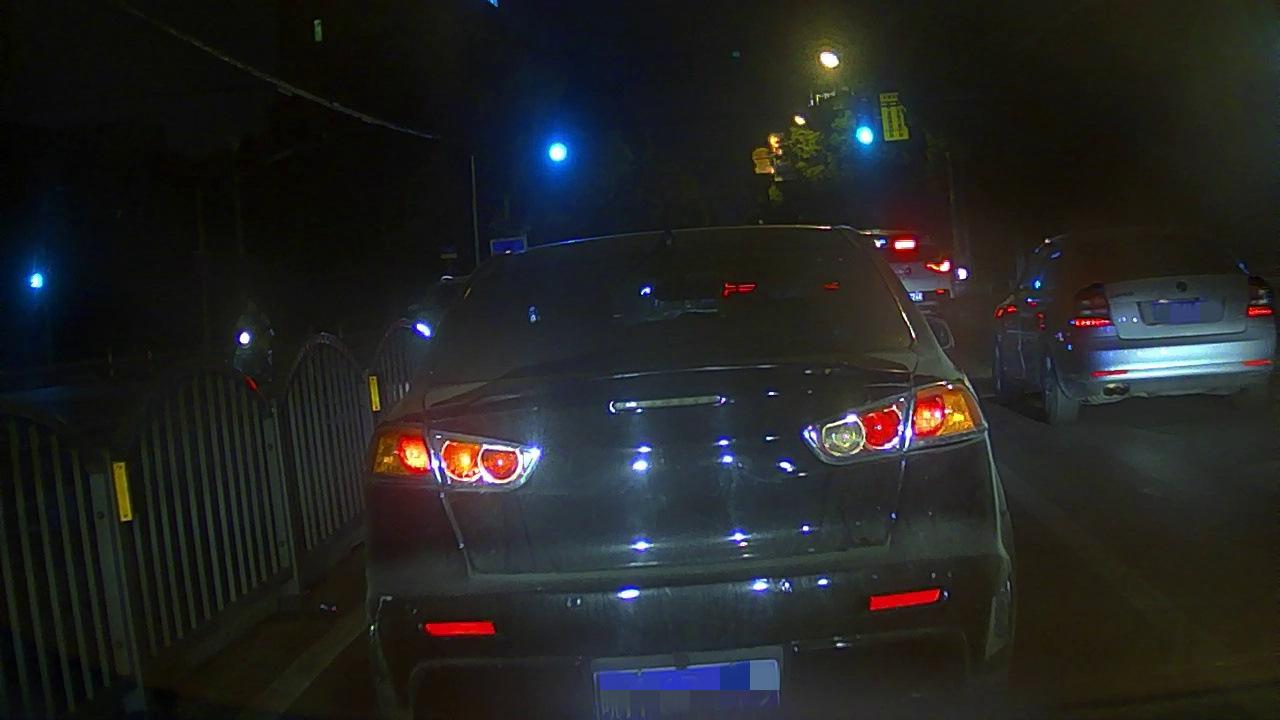traffic_light: (854, 98, 877, 149), (542, 136, 575, 170)
